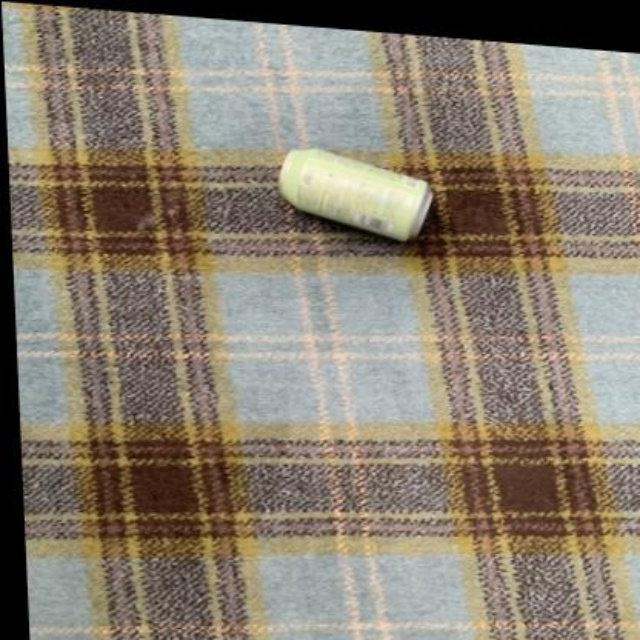trash: (278, 149, 431, 240)
